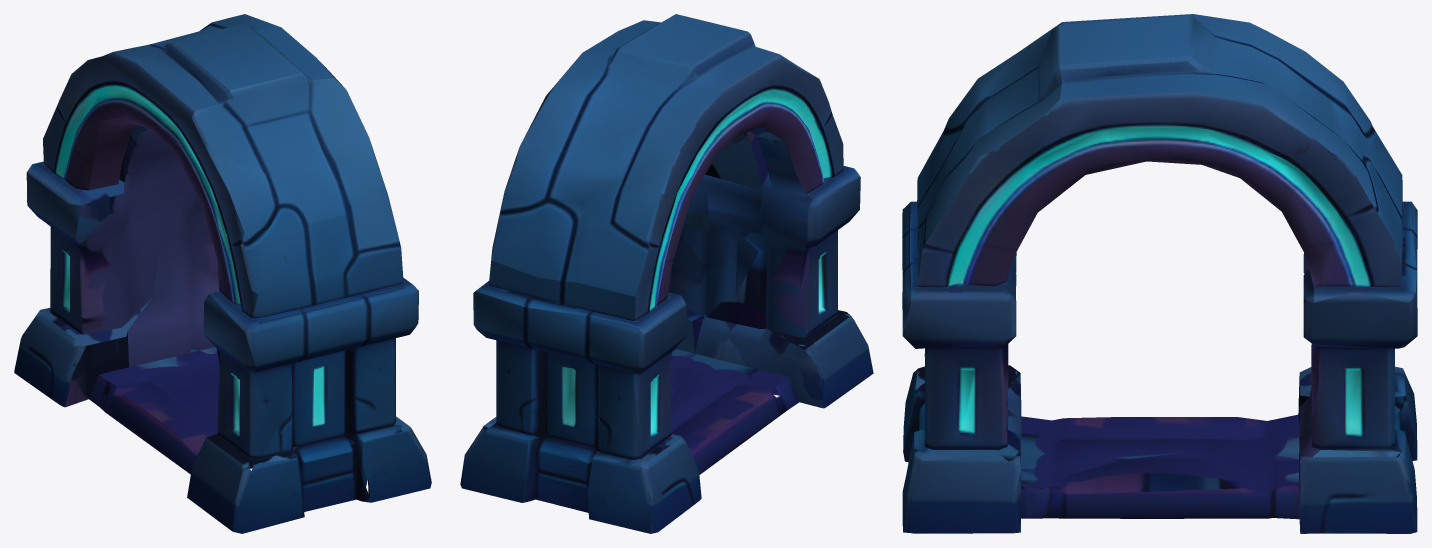
3 views of the same model, side by side, from view 1: azimuth 30°, elevation 25°; view 2: azimuth 150°, elevation 25°; view 3: azimuth 270°, elevation 25° (orthographic). The views are drawn at different scales.
Visible parts, largest first — view 1: tmp2htlb4bc.ply; view 2: tmp2htlb4bc.ply; view 3: tmp2htlb4bc.ply.
Part boxes in pixels (<box>): tmp2htlb4bc.ply: <box>14,14,431,533</box>; tmp2htlb4bc.ply: <box>460,14,873,533</box>; tmp2htlb4bc.ply: <box>902,14,1417,533</box>.
Bounding box in the file's own units: 102 × 189 × 199.
Materials: 1 (1 with a texture image).
